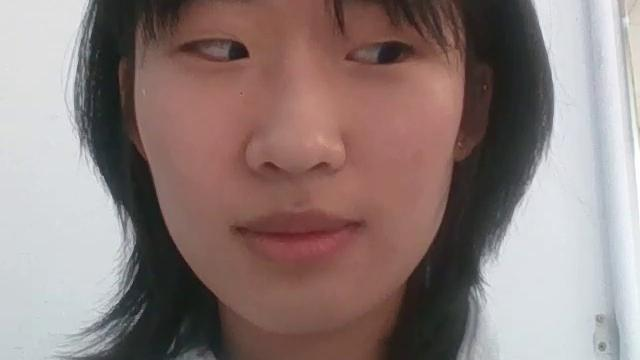eye: (380, 44, 405, 65), (230, 42, 252, 63)
iris: (345, 40, 414, 64), (189, 41, 250, 61)
